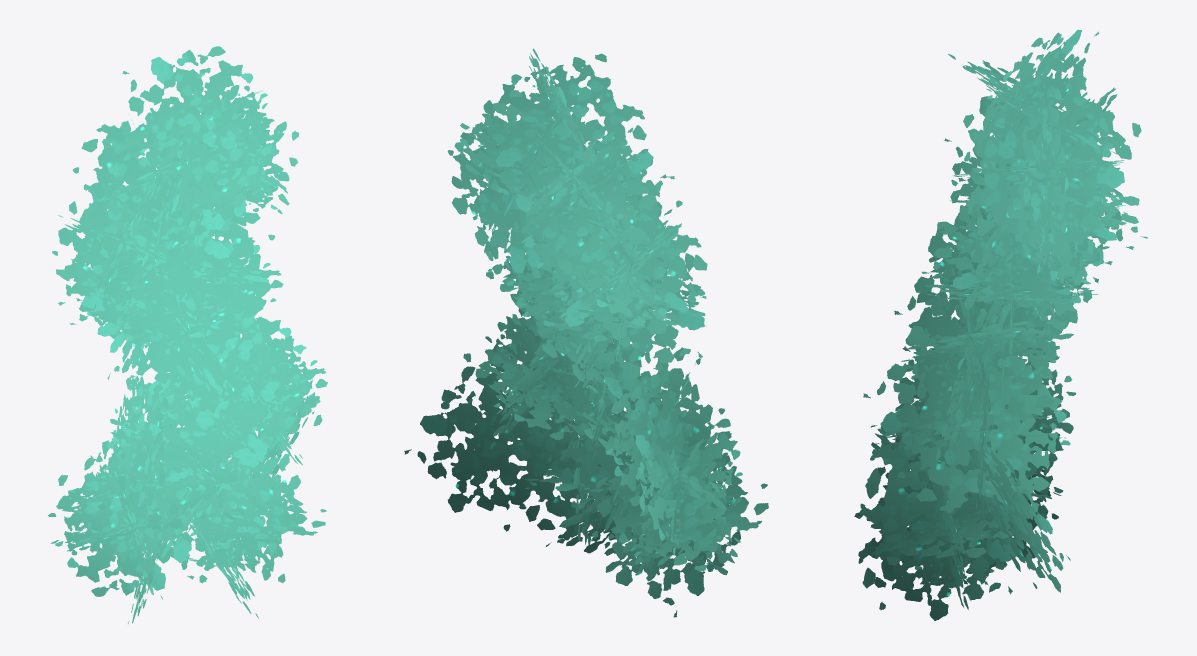
File: SM_ENV_bush_ancient_04.fbx
The picture shows the model from 3 angles, left to right: view 1: azimuth 30°, elevation 25°; view 2: azimuth 150°, elevation 25°; view 3: azimuth 270°, elevation 25°; orthographic projection. The views are drawn at different scales.
Visible parts, largest first — view 1: SM_ENV_bush_ancient_04_LOD0; view 2: SM_ENV_bush_ancient_04_LOD0; view 3: SM_ENV_bush_ancient_04_LOD0.
Boxes of the visible parts, x1,y1,x2,y2 form: SM_ENV_bush_ancient_04_LOD0: [48, 46, 327, 623]; SM_ENV_bush_ancient_04_LOD0: [404, 48, 768, 617]; SM_ENV_bush_ancient_04_LOD0: [854, 29, 1147, 620].
Size of the model in its own units: 164 by 282 by 136.
